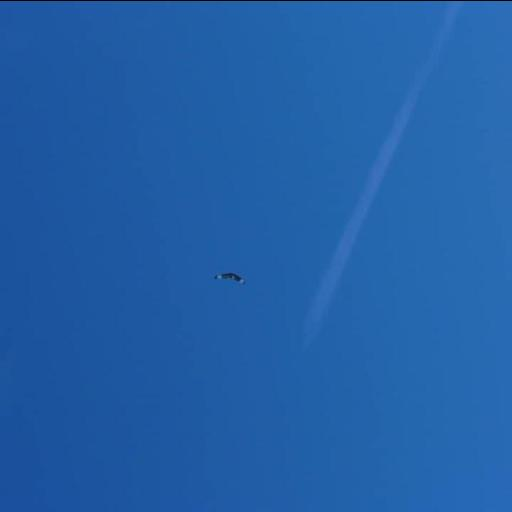uav: (212, 266, 260, 284)
